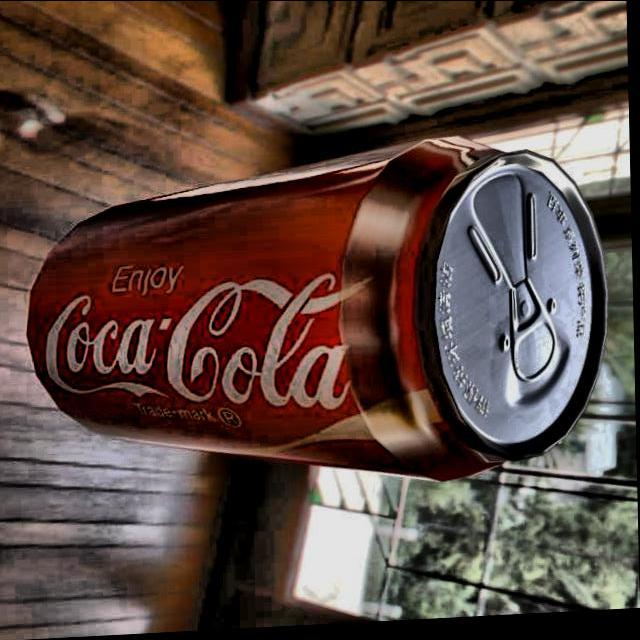Aluminum Can: (11, 130, 620, 510)
